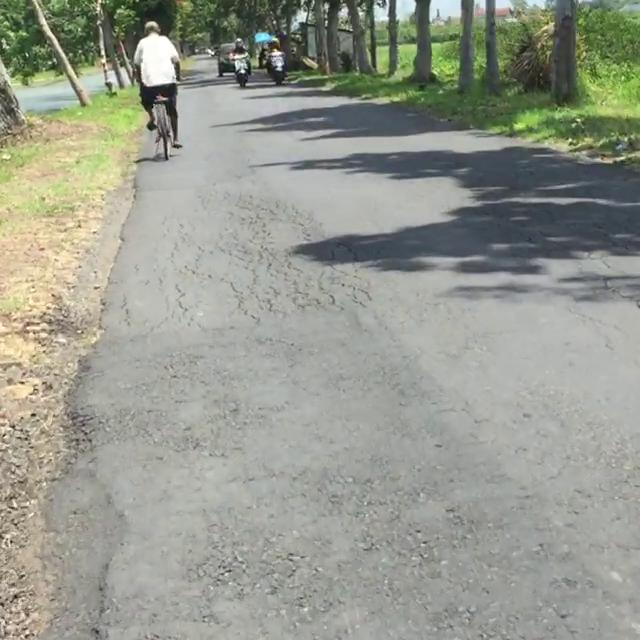retak_kulit_buaya: (200, 189, 351, 317)
